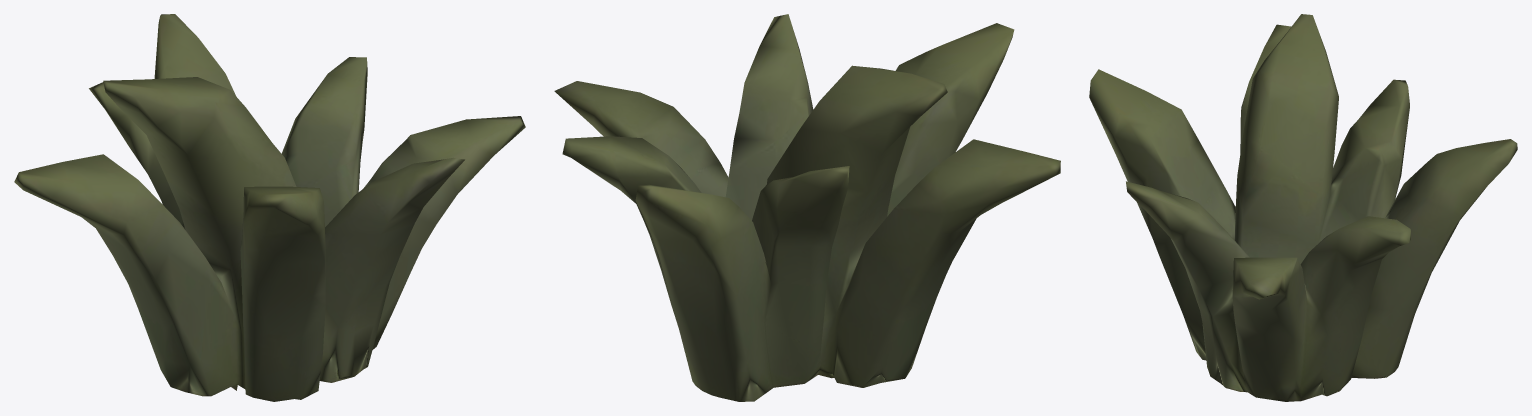
Rendered from blade_cluster.1k.glb.
The picture shows the model from 3 angles, left to right: view 1: azimuth 30°, elevation 25°; view 2: azimuth 150°, elevation 25°; view 3: azimuth 270°, elevation 25°; orthographic projection. The views are drawn at different scales.
Parts seen in each view (by area): view 1: tripo_node_83c78fe2-d90c-4db7-a507-be0d6146bc79; view 2: tripo_node_83c78fe2-d90c-4db7-a507-be0d6146bc79; view 3: tripo_node_83c78fe2-d90c-4db7-a507-be0d6146bc79.
Part boxes in pixels (<box>): tripo_node_83c78fe2-d90c-4db7-a507-be0d6146bc79: <box>14,14,525,401</box>; tripo_node_83c78fe2-d90c-4db7-a507-be0d6146bc79: <box>554,14,1060,401</box>; tripo_node_83c78fe2-d90c-4db7-a507-be0d6146bc79: <box>1089,14,1517,401</box>.
Bounding box in the file's own units: 0.9999 × 0.5926 × 0.8223.
Materials: 1 (1 with a texture image).
